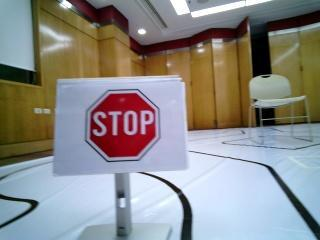stop: (61, 78, 182, 168)
